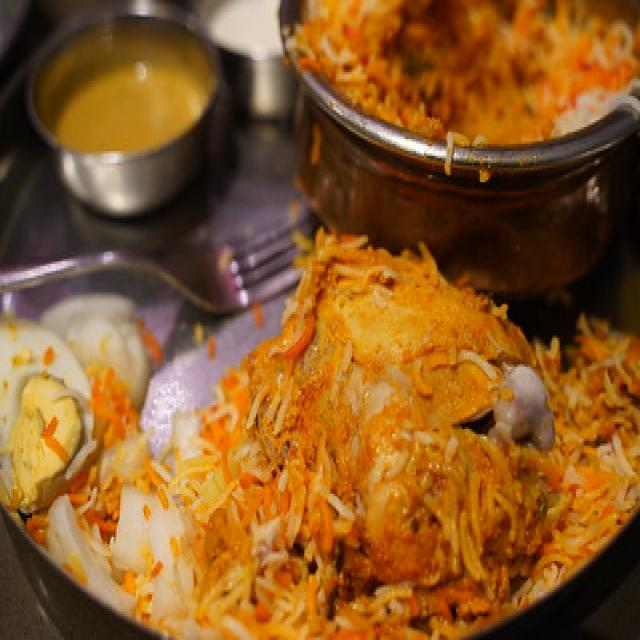Biryani: (202, 265, 621, 584)
